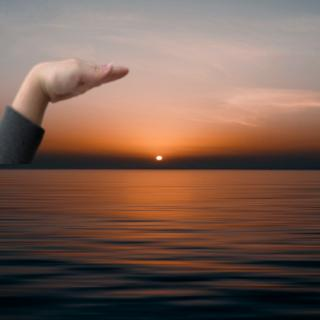Wait: (13, 51, 133, 119)
